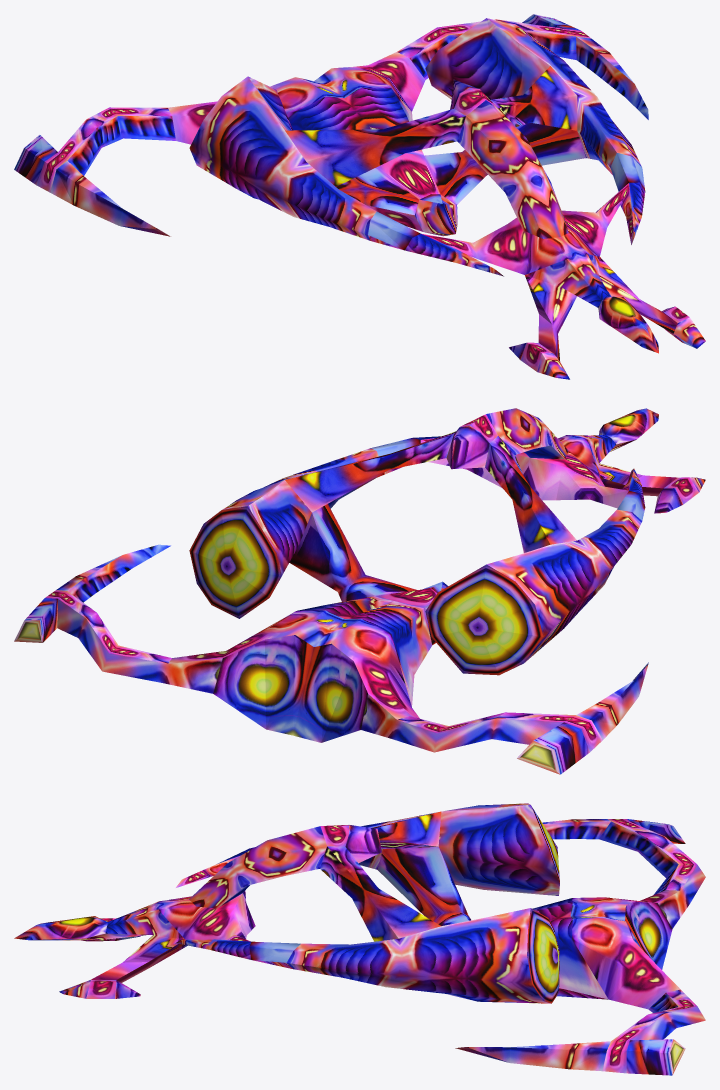
The model's file is boss-02.fbx.
The picture shows the model from 3 angles, top to bottom: view 1: azimuth 30°, elevation 25°; view 2: azimuth 150°, elevation 25°; view 3: azimuth 270°, elevation 25°; orthographic projection. The views are drawn at different scales.
Parts seen in each view (by area): view 1: boss-02; view 2: boss-02; view 3: boss-02.
Boxes of the visible parts, left/top/right/bottom form: boss-02: left=14, top=14, right=705, bottom=379; boss-02: left=14, top=408, right=705, bottom=774; boss-02: left=14, top=803, right=705, bottom=1075.
Bounding box in the file's own units: 221 × 70.09 × 270.
